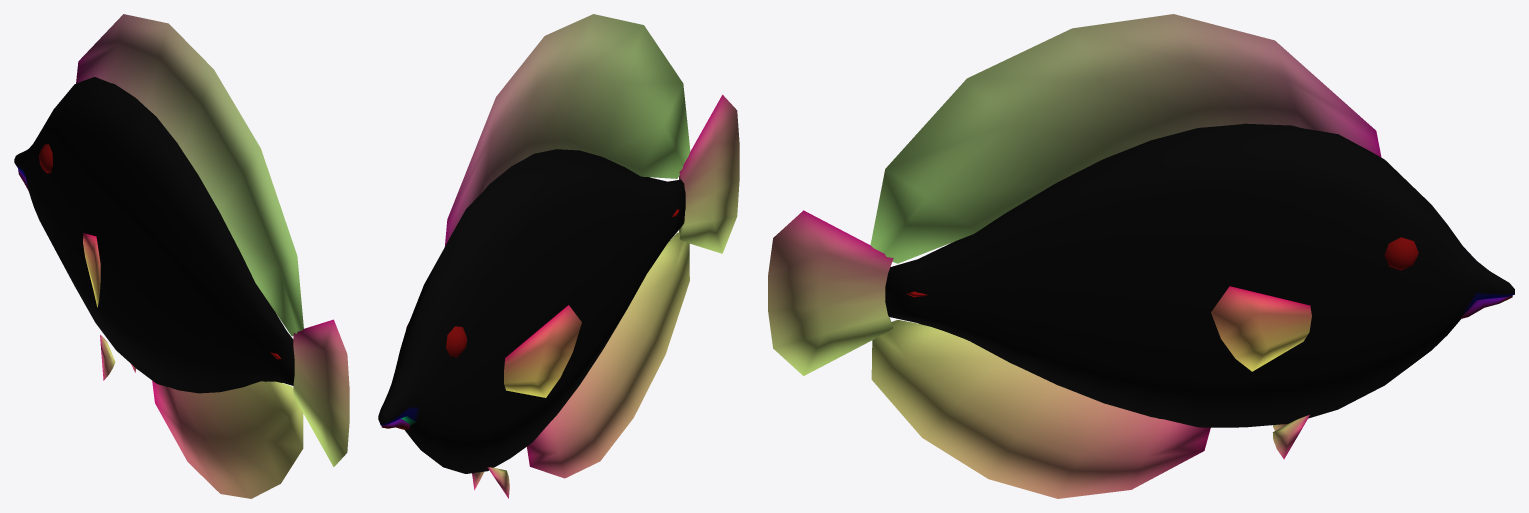
Rendered from surgeonfish_yellow_tang_lo.glb.
3 views of the same model, side by side, from view 1: azimuth 30°, elevation 25°; view 2: azimuth 150°, elevation 25°; view 3: azimuth 270°, elevation 25° (orthographic). The views are drawn at different scales.
Visible parts, largest first — view 1: surgeonfish_yellow_tang_lo; view 2: surgeonfish_yellow_tang_lo; view 3: surgeonfish_yellow_tang_lo.
Boxes of the visible parts, x1,y1,x2,y2 form: surgeonfish_yellow_tang_lo: (14,14,349,498); surgeonfish_yellow_tang_lo: (378,14,739,498); surgeonfish_yellow_tang_lo: (768,14,1514,498).
Size of the model in its own units: 0.0438 by 0.1767 by 0.2465.
